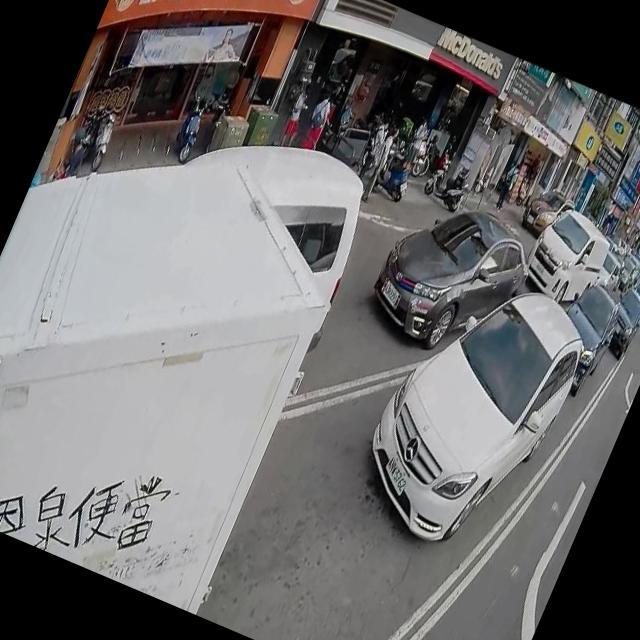person: (352, 116, 411, 210), (278, 74, 318, 148), (297, 88, 338, 153), (352, 118, 390, 182), (58, 124, 96, 180), (398, 115, 432, 173), (318, 76, 352, 130), (490, 162, 518, 210)
